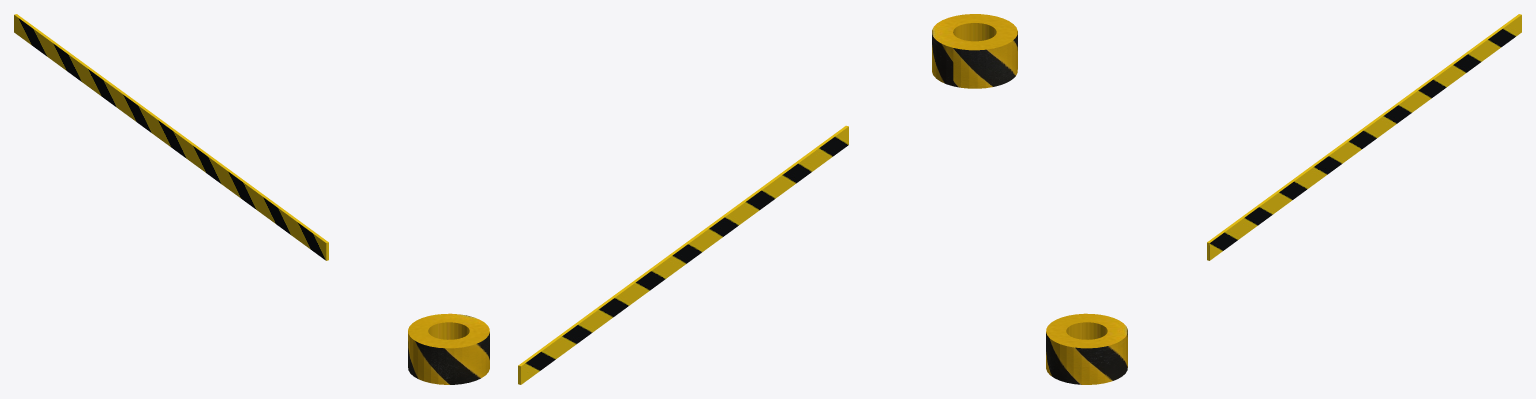
File: şerit.fbx
The picture shows the model from 3 angles, left to right: view 1: azimuth 30°, elevation 25°; view 2: azimuth 150°, elevation 25°; view 3: azimuth 330°, elevation 25°; orthographic projection. The views are drawn at different scales.
Visible parts, largest first — view 1: Plane, Cylinder; view 2: Plane, Cylinder; view 3: Plane, Cylinder.
Part boxes in pixels (x1,y1,x2,y2): Plane: (14, 14, 328, 260); Cylinder: (408, 313, 489, 384); Plane: (518, 125, 848, 384); Cylinder: (932, 14, 1017, 88); Plane: (1207, 14, 1521, 260); Cylinder: (1046, 313, 1127, 384).
Size of the model in its own units: 99.81 by 49.17 by 1105.
2 materials, 2 textured.
